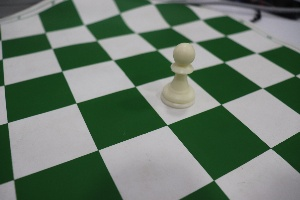white_pawn: (161, 32, 199, 113)
